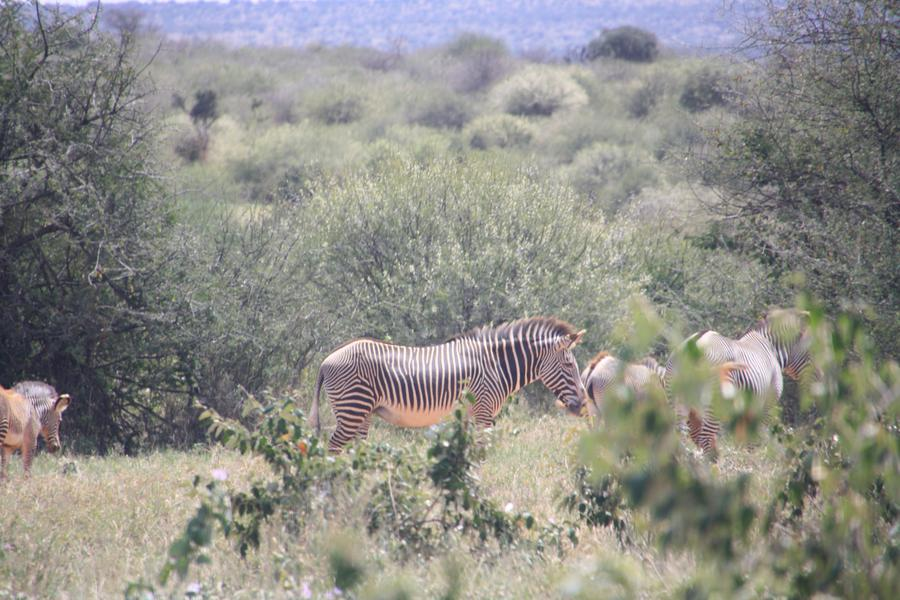zebra_grevys: (312, 329, 500, 421)
